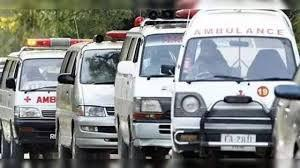AMBULANCE: (174, 15, 285, 145), (115, 20, 176, 161), (0, 32, 58, 155), (61, 29, 119, 150), (26, 31, 90, 49)
